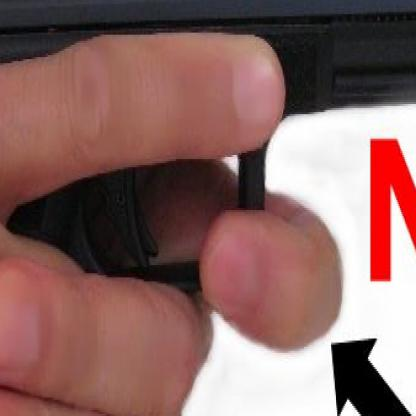gun: (0, 0, 415, 345)
